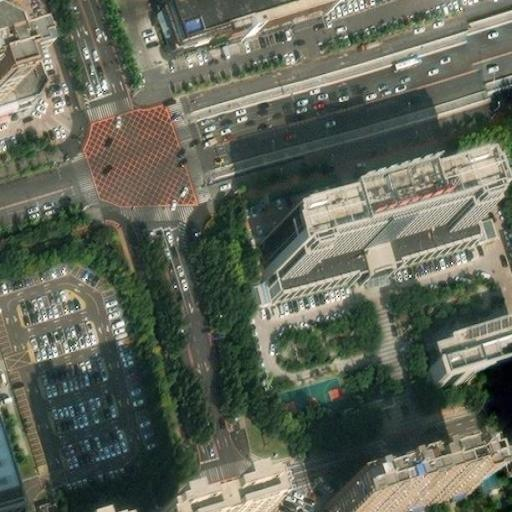building: (254, 174, 468, 278), (267, 215, 472, 294), (323, 460, 467, 512), (0, 408, 29, 512), (194, 486, 285, 512), (497, 441, 512, 475)
